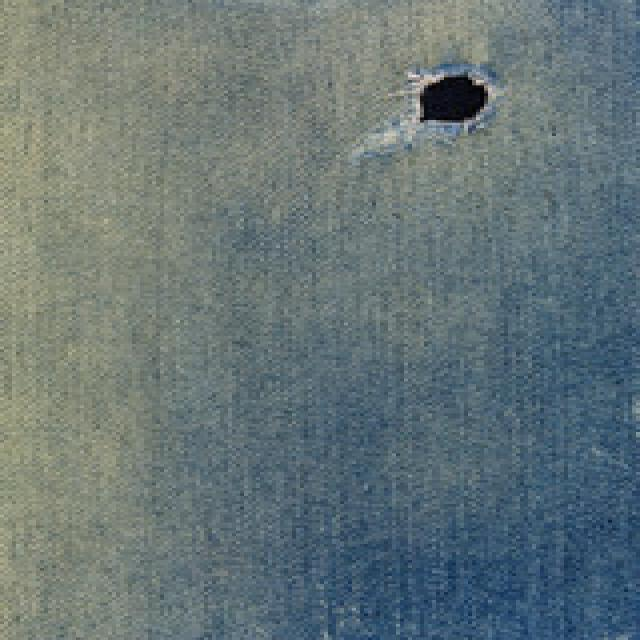Hole: (420, 75, 488, 121)
